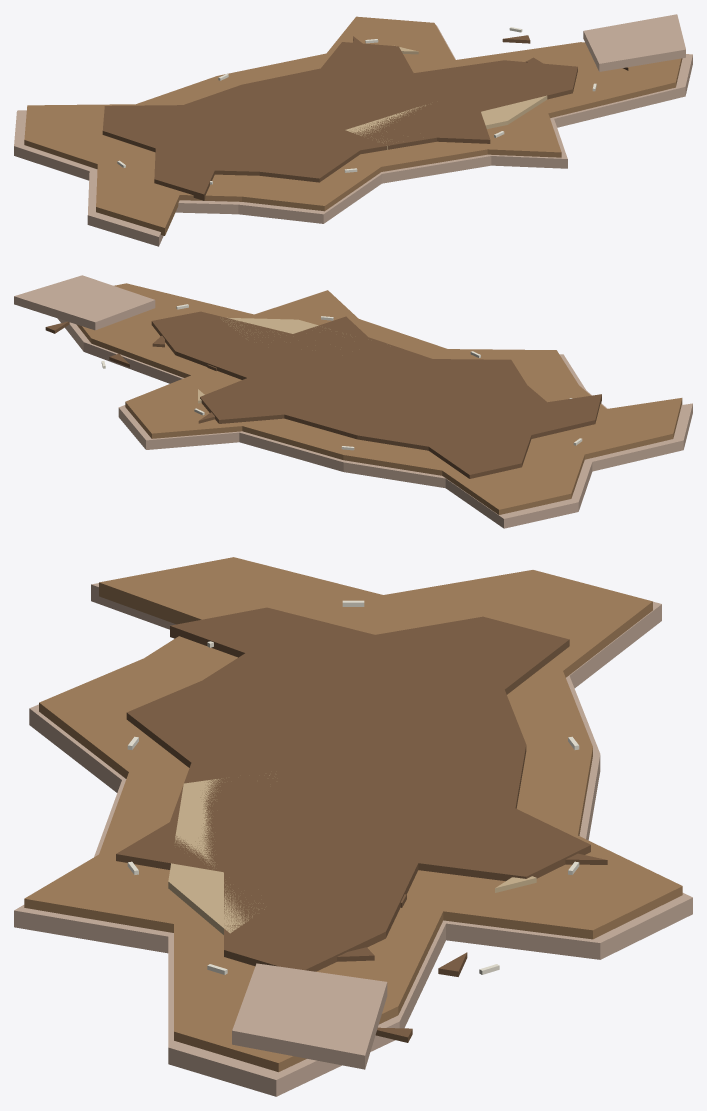
File: pele.glb
3 renders of one model, top to bottom at view 1: azimuth 30°, elevation 25°; view 2: azimuth 150°, elevation 25°; view 3: azimuth 270°, elevation 25°, orthographic. The views are drawn at different scales.
Parts seen in each view (by area): view 1: pele; view 2: pele; view 3: pele.
Part boxes in pixels (bbox=[...]): pele: bbox=[14, 14, 692, 246]; pele: bbox=[14, 275, 692, 528]; pele: bbox=[14, 557, 692, 1096].
Bounding box in the file's own units: 0.813 × 0.0355 × 0.44.
